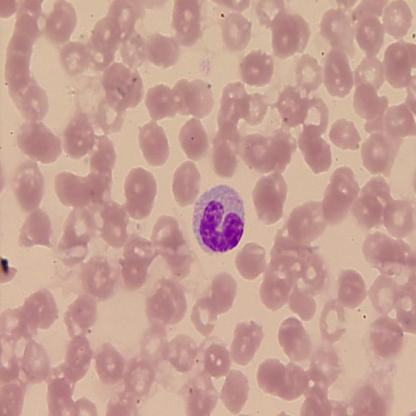Band Neutrophil: (190, 181, 247, 257)
